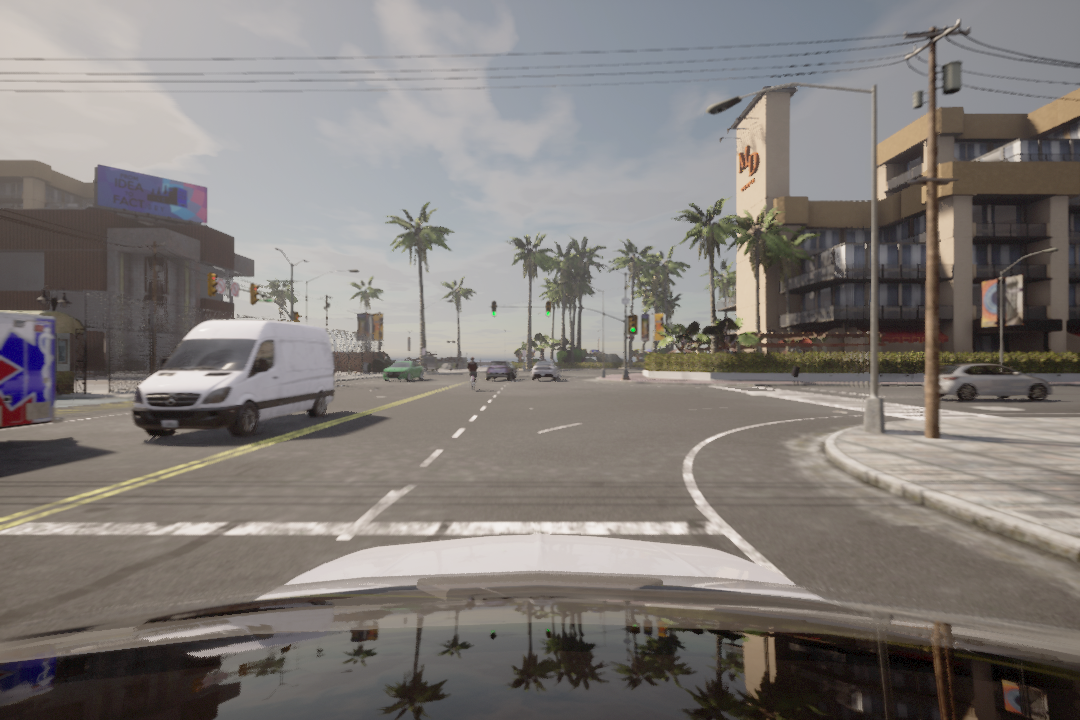TrafficLight: (629, 315, 641, 337), (541, 301, 553, 318), (491, 302, 498, 318)
